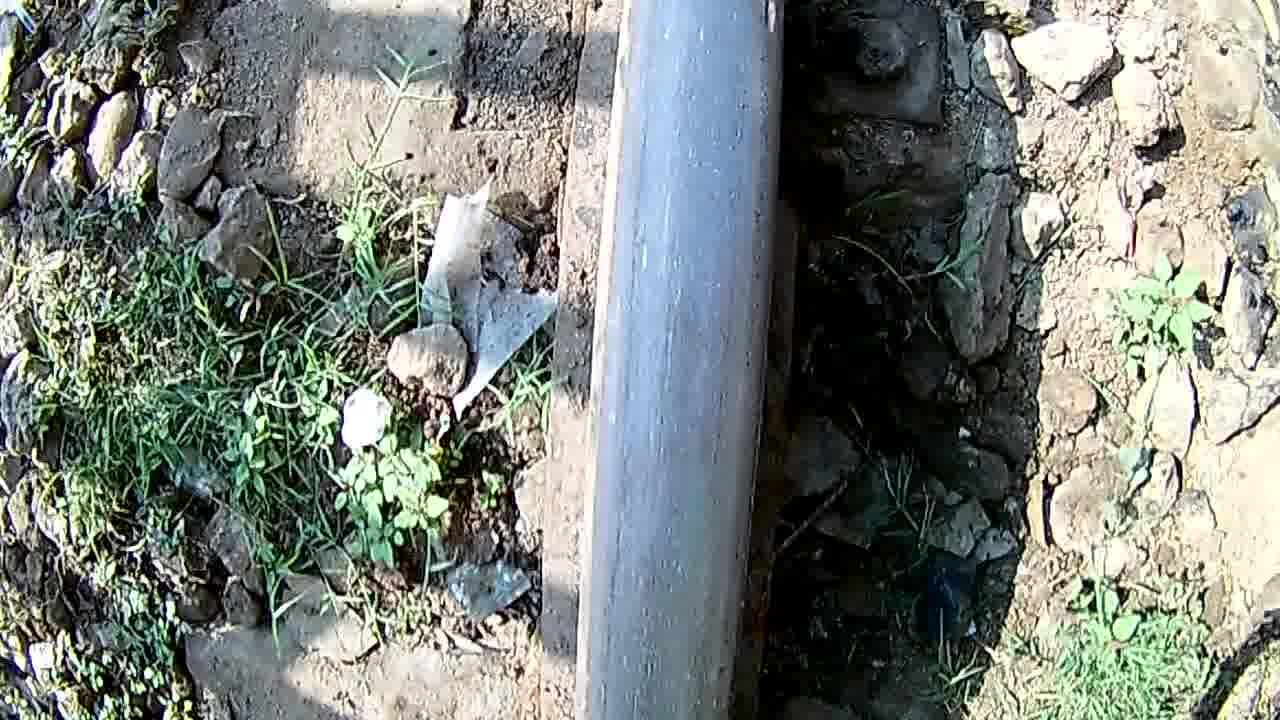crack: (595, 27, 790, 720)
